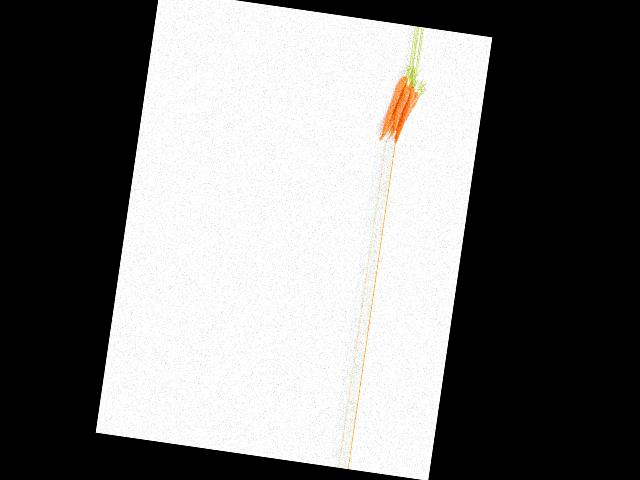carrot: (381, 72, 403, 141)
